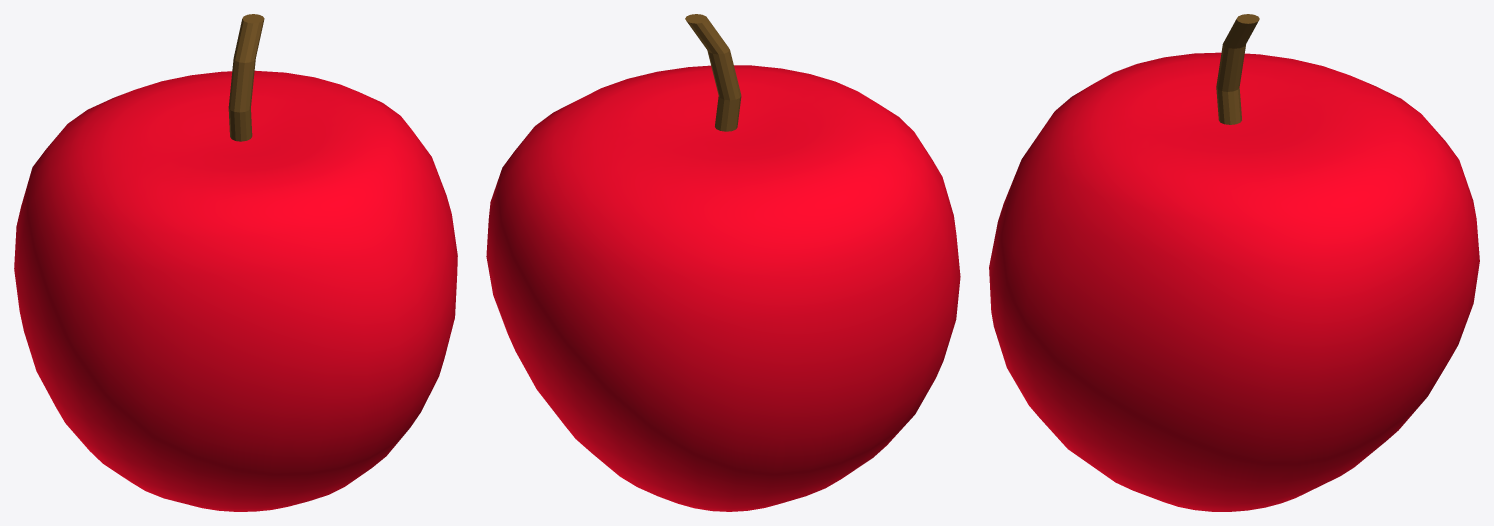
Rendered from apple.fbx.
3 renders of one model, left to right at view 1: azimuth 30°, elevation 25°; view 2: azimuth 150°, elevation 25°; view 3: azimuth 270°, elevation 25°, orthographic. The views are drawn at different scales.
Visible parts, largest first — view 1: apple; view 2: apple; view 3: apple.
Boxes of the visible parts, x1,y1,x2,y2 form: apple: [14, 14, 457, 511]; apple: [486, 14, 960, 511]; apple: [989, 14, 1479, 511].
Size of the model in its own units: 27.07 by 30.05 by 27.65.
